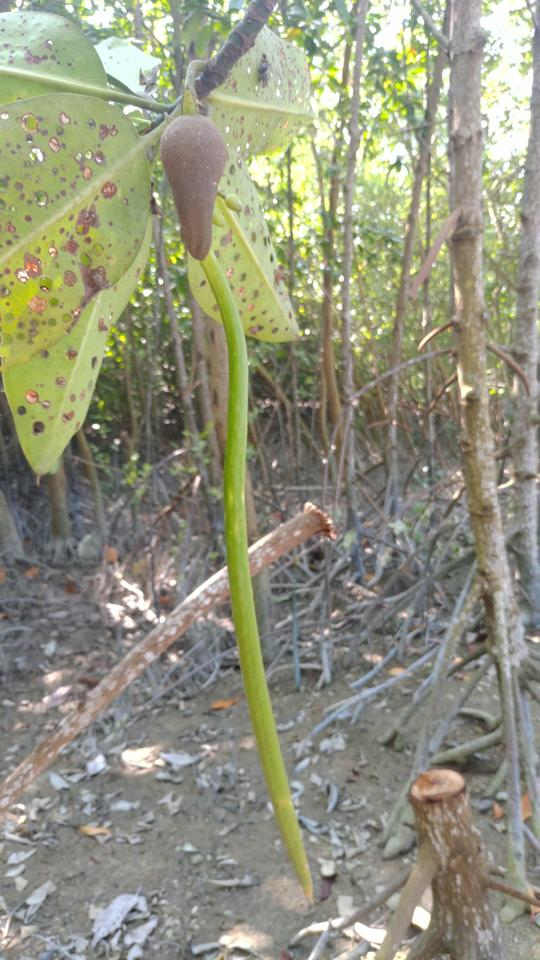mentah: (122, 75, 338, 923)
